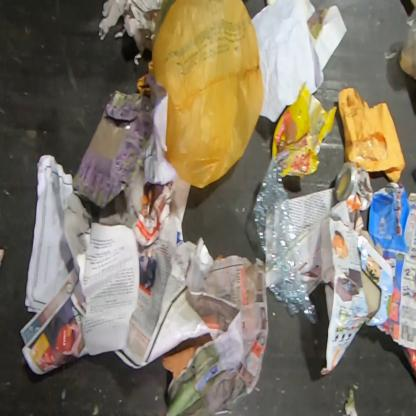cardboard: (71, 90, 153, 210), (163, 333, 213, 382)
metal: (334, 162, 375, 213)
rigid_plastic: (253, 155, 317, 325), (404, 8, 415, 66)
soft_plastic: (137, 1, 265, 190), (272, 82, 337, 178)
